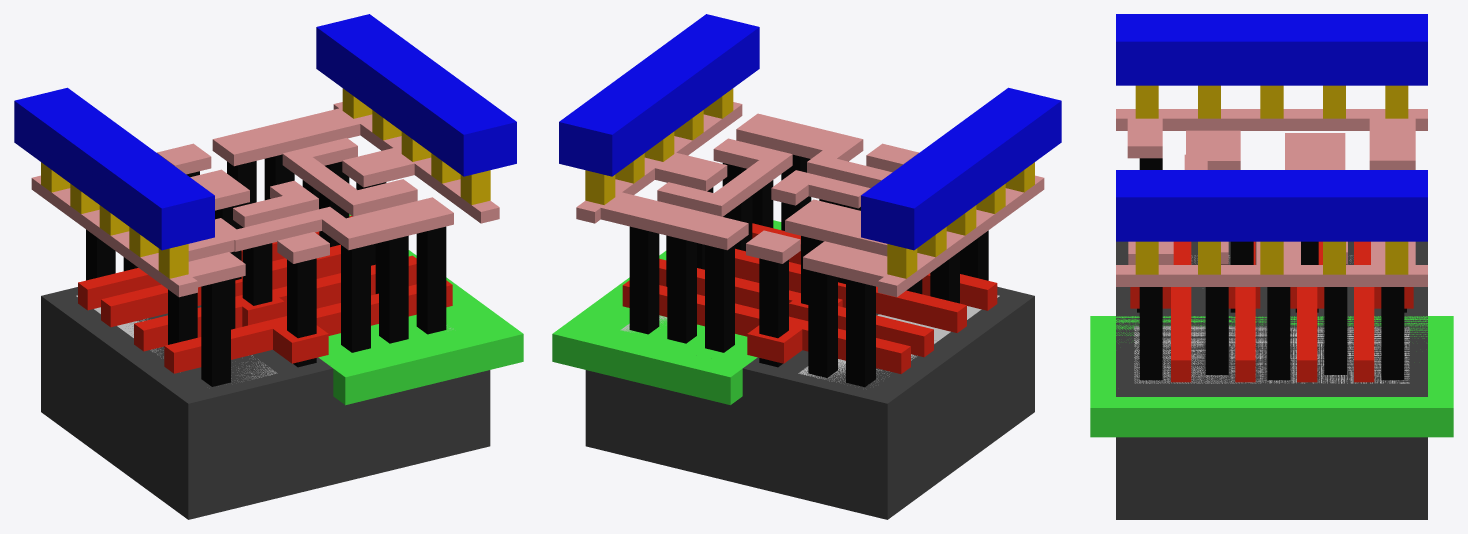
The model's file is sky130_fd_sc_hd__a31oi_1.obj.
The picture shows the model from 3 angles, left to right: view 1: azimuth 30°, elevation 25°; view 2: azimuth 150°, elevation 25°; view 3: azimuth 270°, elevation 25°; orthographic projection. The views are drawn at different scales.
Visible parts, largest first — view 1: subs, metal1, li, licon, poly, nwell, mcon; view 2: subs, metal1, li, licon, poly, nwell, mcon, diff; view 3: metal1, subs, li, nwell, licon, poly, mcon, tap.
Part boxes in pixels (x1=…): subs: x1=41, y1=287, x2=490, y2=519; metal1: x1=14, y1=14, x2=516, y2=250; li: x1=31, y1=102, x2=499, y2=297; licon: x1=86, y1=154, x2=446, y2=386; poly: x1=78, y1=216, x2=452, y2=373; nwell: x1=318, y1=214, x2=523, y2=405; mcon: x1=41, y1=88, x2=490, y2=278; subs: x1=585, y1=286, x2=1034, y2=519; metal1: x1=559, y1=14, x2=1061, y2=250; li: x1=576, y1=102, x2=1044, y2=297; licon: x1=629, y1=154, x2=988, y2=387; poly: x1=622, y1=223, x2=997, y2=373; nwell: x1=552, y1=220, x2=781, y2=405; mcon: x1=585, y1=88, x2=1034, y2=278; diff: x1=798, y1=295, x2=999, y2=382; metal1: x1=1116, y1=14, x2=1427, y2=241; subs: x1=1116, y1=241, x2=1427, y2=519; li: x1=1116, y1=109, x2=1427, y2=286; nwell: x1=1090, y1=316, x2=1453, y2=437; licon: x1=1137, y1=158, x2=1406, y2=380; poly: x1=1130, y1=241, x2=1413, y2=382; mcon: x1=1135, y1=85, x2=1408, y2=274; tap: x1=1134, y1=326, x2=1409, y2=383.
Bounding box in the file's own units: 3.2 × 2.74 × 2.68.
